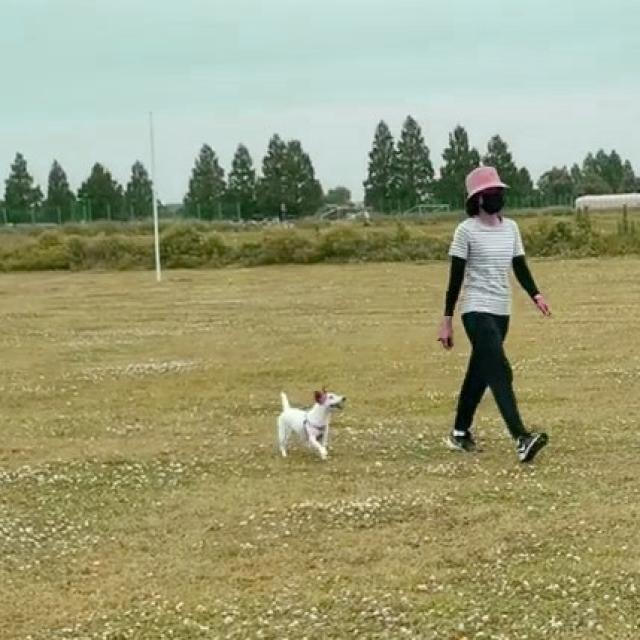Unleashed_Dog: (277, 318, 503, 460)
